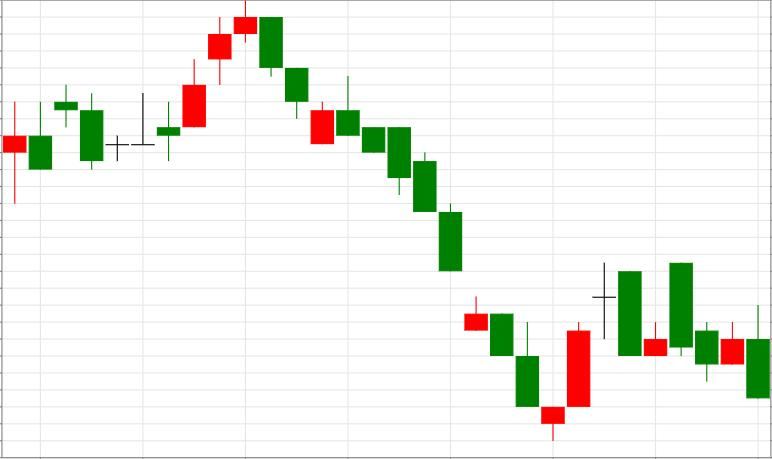morning_star_rise: (336, 76, 590, 441)
